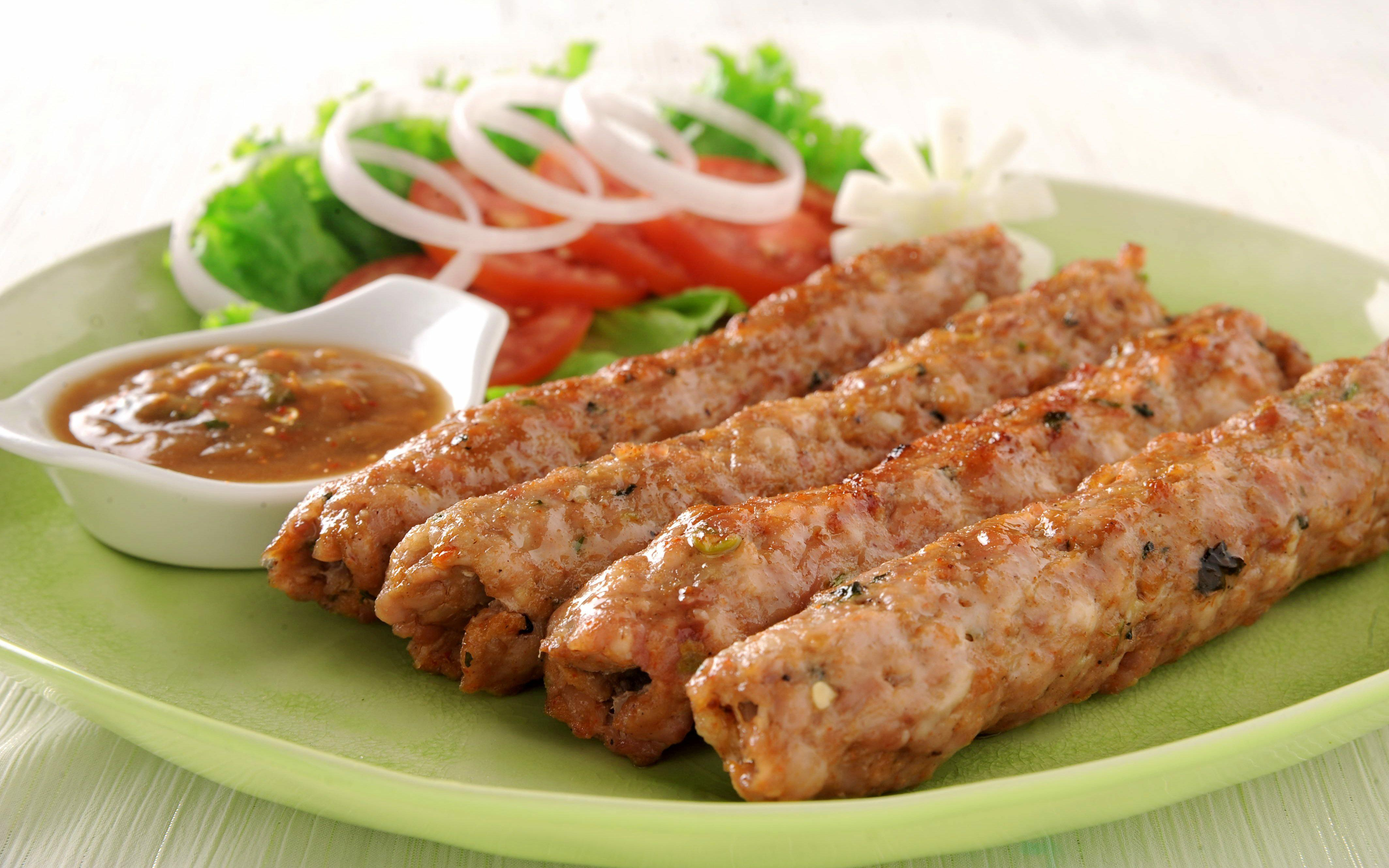Kebab: (377, 241, 1169, 698), (548, 306, 1315, 758), (686, 345, 1389, 803), (266, 225, 1048, 617)
